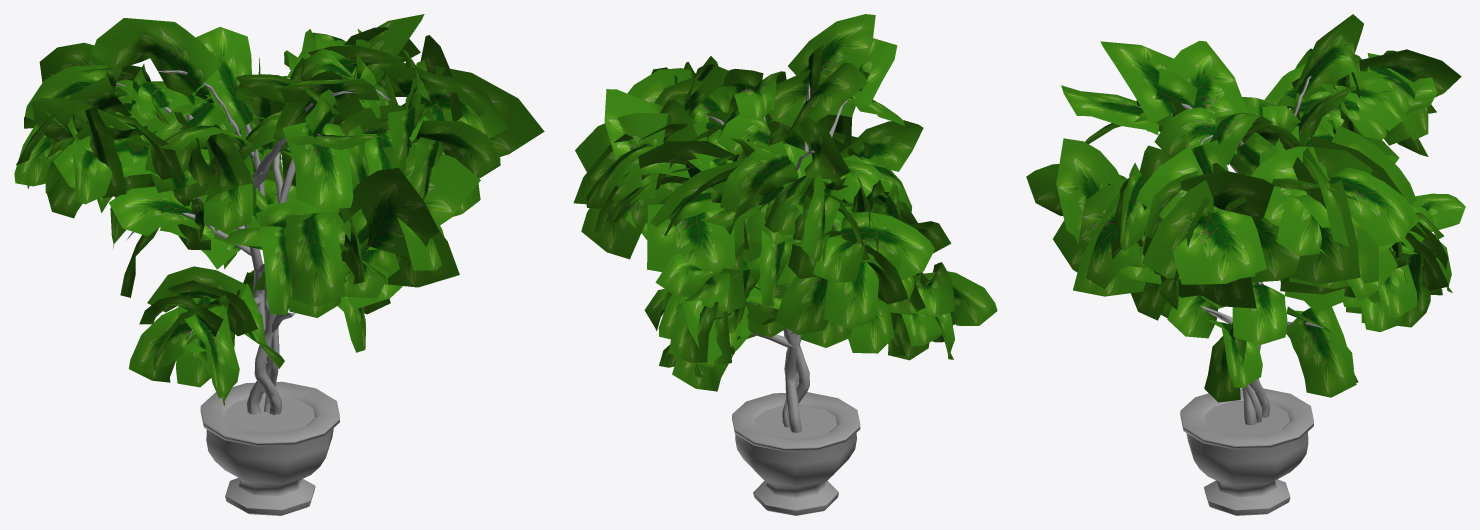
The model's file is Ficus_leaf_lod0.fbx.
The picture shows the model from 3 angles, left to right: view 1: azimuth 30°, elevation 25°; view 2: azimuth 150°, elevation 25°; view 3: azimuth 270°, elevation 25°; orthographic projection. The views are drawn at different scales.
Visible parts, largest first — view 1: Ficus_leaf_lod0; view 2: Ficus_leaf_lod0; view 3: Ficus_leaf_lod0.
Part boxes in pixels (left/top/right/bottom): Ficus_leaf_lod0: left=14, top=14, right=544, bottom=515; Ficus_leaf_lod0: left=573, top=14, right=997, bottom=515; Ficus_leaf_lod0: left=1026, top=14, right=1465, bottom=515.
Bounding box in the file's own units: 154 × 169 × 147.
Materials: 3 (1 with a texture image).
